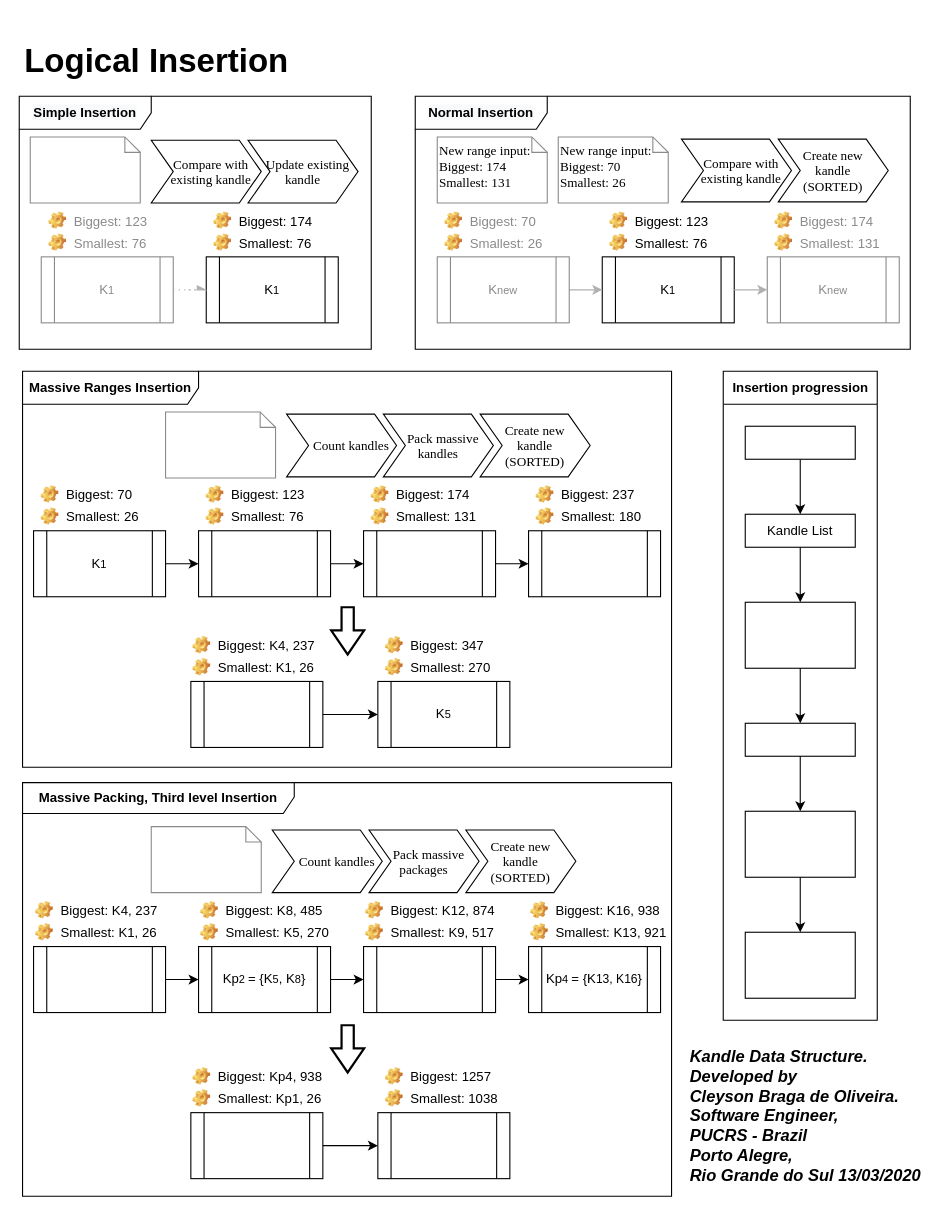
The diagram is 942 pixels wide and 1216 high, and some of its shapes have lost their labels. Here are the shapes that lost their labels. From the top down, the centre of each, then its label:
the point at 84,169: New range input: Biggest: 174 Smallest: 111
the point at 220,444: New range input: Biggest: 347 Smallest: 270
the point at 799,442: Kandle
the point at 264,563: K 2
the point at 429,563: K 3
the point at 594,563: K 4
the point at 799,634: Package + Kandle List
the point at 256,713: K p = {K 1 , K 4 }
the point at 799,739: Package List
the point at 205,859: New range input: Biggest: 1257 Smallest: 1038
the point at 799,843: Package List + Kandle List
the point at 99,979: K p1 = {K 1 , K 4 }
the point at 429,979: Kp 3 = {K 9 , K 12 }
the point at 799,964: Containers
the point at 256,1145: Kk p = {Kp 1 , Kp 4 }
the point at 443,1145: K 17
